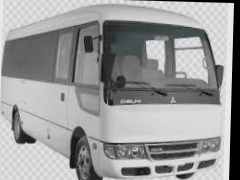bus: (0, 2, 227, 180)
